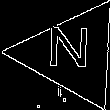N_S: (48, 28, 96, 80)
